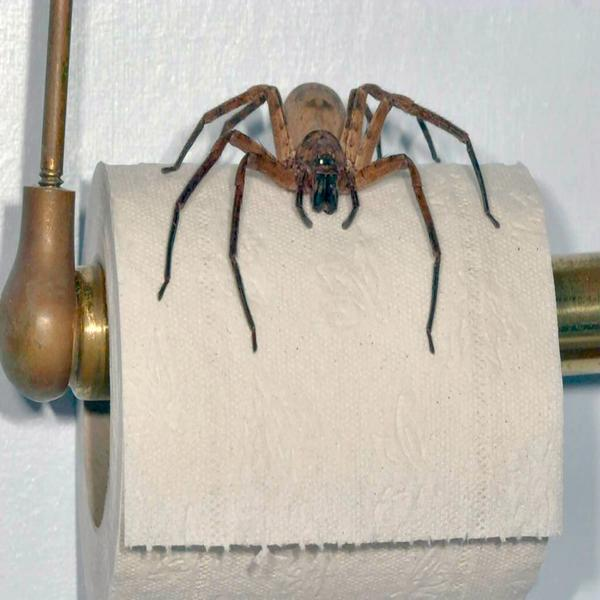Huntsman Spider: (167, 84, 496, 343)
